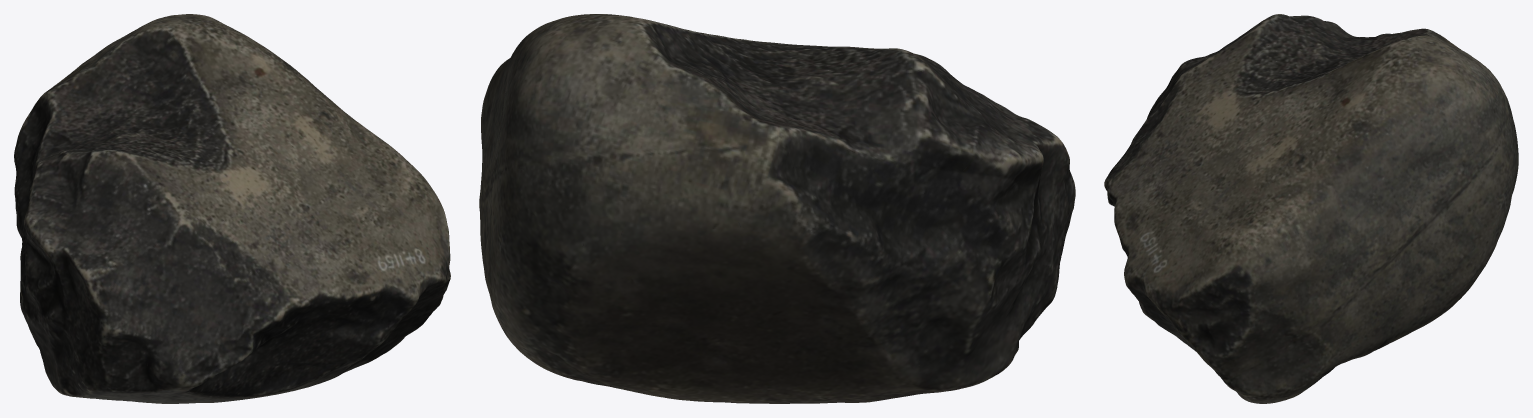
The picture shows the model from 3 angles, left to right: view 1: azimuth 30°, elevation 25°; view 2: azimuth 150°, elevation 25°; view 3: azimuth 270°, elevation 25°; orthographic projection. The views are drawn at different scales.
Parts seen in each view (by area): view 1: Node; view 2: Node; view 3: Node.
Boxes of the visible parts, x1,y1,x2,y2 form: Node: (14,14,450,403); Node: (479,14,1075,403); Node: (1104,14,1518,403).
Bounding box in the file's own units: 1.47 × 1.12 × 1.35.
1 material, 1 textured.
